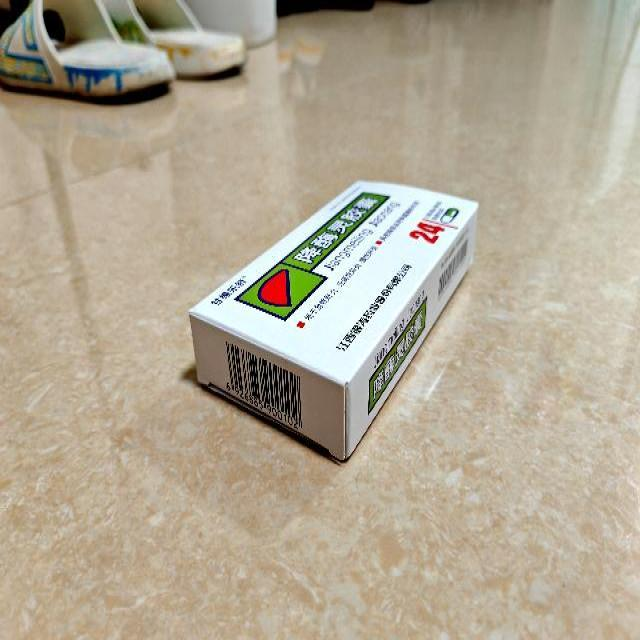box: (187, 177, 479, 463)
